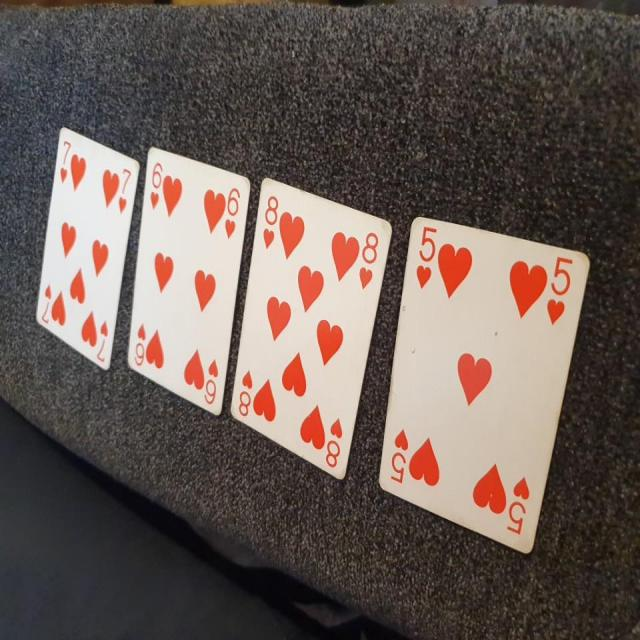5 Hearts: (378, 196, 591, 561)
6 Hearts: (123, 142, 250, 417)
7 Hearts: (24, 113, 144, 371)
8 Hearts: (228, 161, 401, 484)
